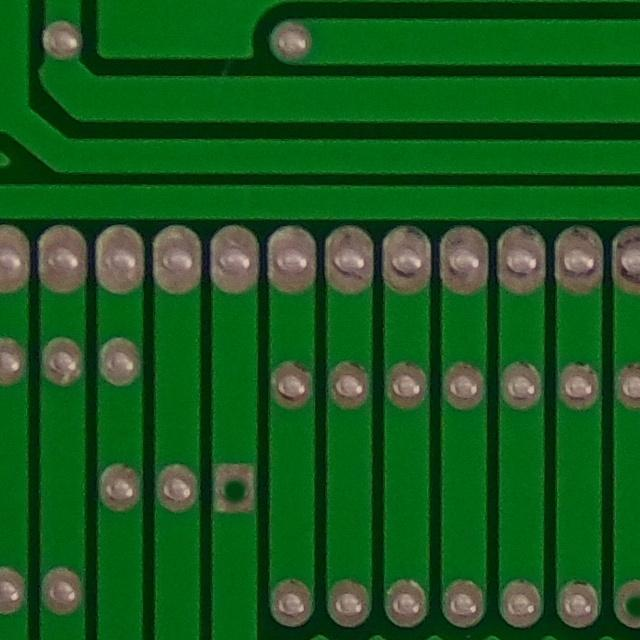missing_hole: (206, 461, 268, 517), (608, 573, 640, 635)
